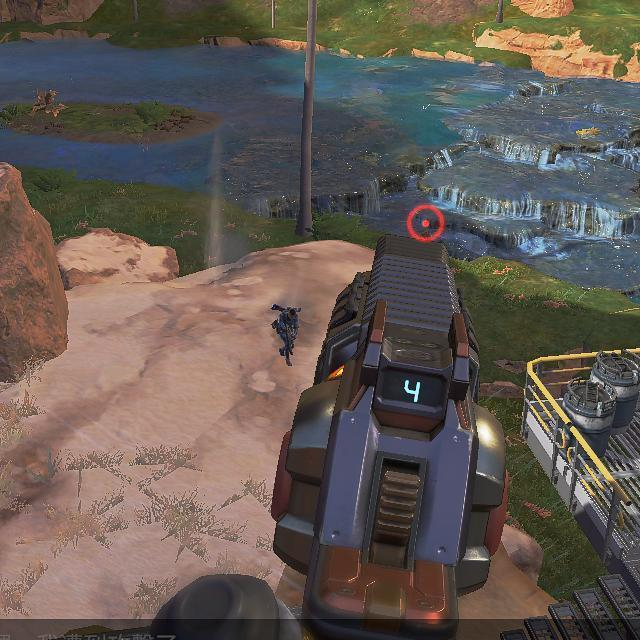avatar: (269, 303, 301, 366)
